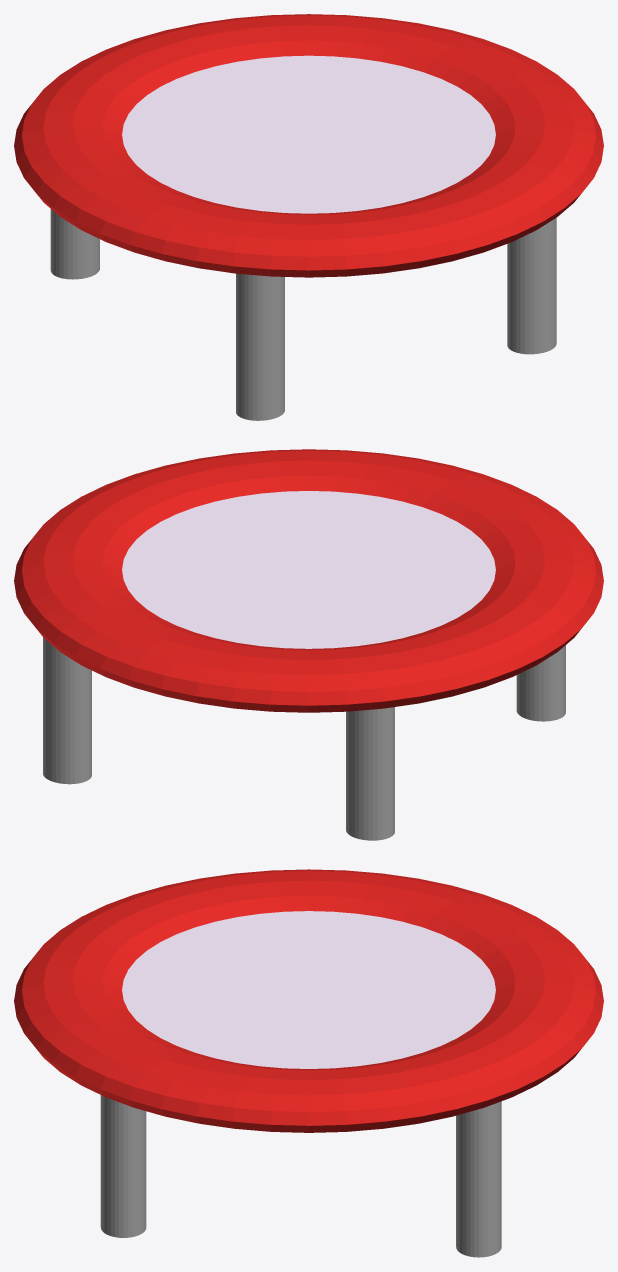
The model's file is trampoline.fbx.
3 renders of one model, top to bottom at view 1: azimuth 30°, elevation 25°; view 2: azimuth 150°, elevation 25°; view 3: azimuth 270°, elevation 25°, orthographic.
Parts seen in each view (by area): view 1: Cylinder.004; view 2: Cylinder.004; view 3: Cylinder.004.
Part boxes in pixels (x1,y1,x2,y2): Cylinder.004: (14, 14, 603, 420); Cylinder.004: (14, 449, 603, 840); Cylinder.004: (14, 869, 603, 1257).
Size of the model in its own units: 713 by 254 by 713.
